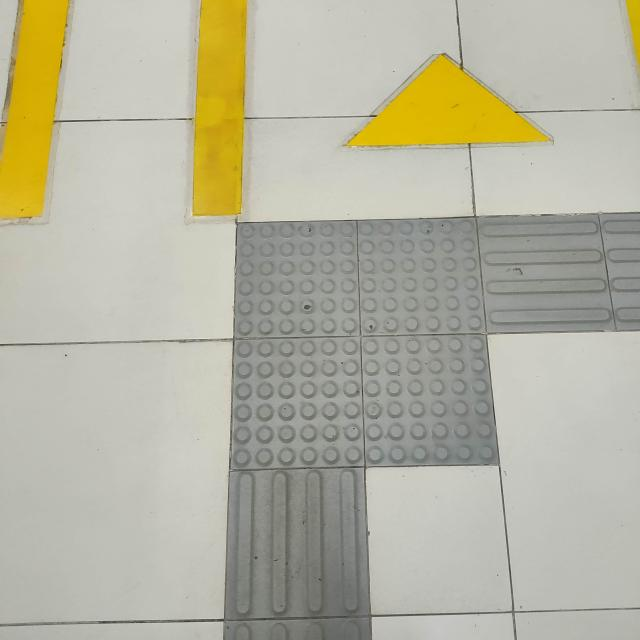kanan: (184, 192, 640, 506)
